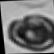correct: (3, 9, 54, 52)
